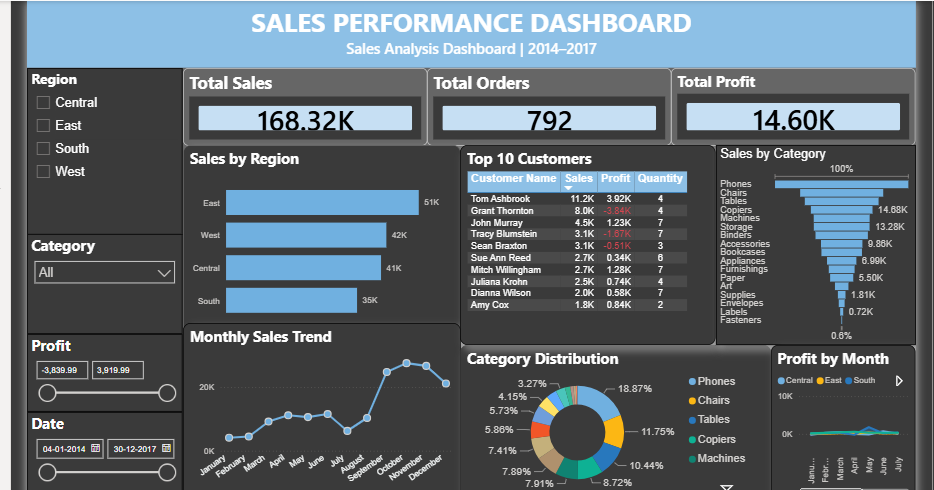

The dashboard page shown, as its layout file describes it:
{"tool":"powerbi","page":{"name":"Page 1","canvas":[1280,720],"ordinal":0},"visuals":[{"type":"cardVisual","title":"Total Sales","fields":{"Data":["Sum(cleaned data.Sales)"]},"box":[224,96,352,112],"z":0},{"type":"cardVisual","title":"Total Orders","fields":{"Data":["Count(cleaned data.Order ID)"]},"box":[576,96,352,112],"z":1000},{"type":"cardVisual","title":"Total Profit","fields":{"Data":["Sum(cleaned data.Profit)"]},"box":[928,96,352,112],"z":2000},{"type":"clusteredBarChart","title":" Sales by Region","fields":{"Category":["cleaned data.Region"],"Y":["Sum(cleaned data.Sales)"]},"box":[224,208,400,272],"z":3000},{"type":"lineChart","title":"Monthly Sales Trend","fields":{"Category":["cleaned data.Order Date.Variation.Date Hierarchy.Month"],"Y":["Sum(cleaned data.Sales)"]},"box":[224,464,400,256],"z":4000},{"type":"donutChart","title":"Category Distribution","fields":{"Category":["cleaned data.Category"],"Y":["Sum(cleaned data.Sales)"]},"box":[624,496,448,224],"z":5000},{"type":"tableEx","title":"Top 10 Customers","fields":{"Values":["cleaned data.Customer Name","Sum(cleaned data.Sales)","Sum(cleaned data.Profit)","Sum(cleaned data.Quantity)"]},"box":[624,208,368,288],"z":6000},{"type":"slicer","title":"Region","fields":{"Values":["cleaned data.Region"]},"box":[0,96,224,240],"z":7000},{"type":"slicer","title":"Category","fields":{"Values":["cleaned data.Category"]},"box":[0,336,224,144],"z":8000},{"type":"slicer","title":"Date","fields":{"Values":["cleaned data.Order Date"]},"box":[0,592,224,128],"z":9000},{"type":"slicer","title":"Profit","fields":{"Values":["cleaned data.Profit"]},"box":[0,480,224,112],"z":10000},{"type":"funnel","title":"Sales by Category","fields":{"Category":["cleaned data.Category"],"Y":["Sum(cleaned data.Sales)"]},"box":[992,208,288,288],"z":11000},{"type":"areaChart","title":"Profit by Month","fields":{"Category":["cleaned data.Order Date.Variation.Date Hierarchy.Month"],"Y":["Sum(cleaned data.Profit)"],"Series":["cleaned data.Region"]},"box":[1072,496,208,224],"z":12000},{"type":"textbox","box":[0,0,1280,96],"z":13000}]}

Visuals, with their boxes on the page's 1280x720 design canvas (x1, y1, x2, y2). These are canvas units, not pixel positions in the 934x490 screenshot, which may show the page scaled, cropped or inside an application window:
"Total Sales" cardVisual: {"left": 224, "top": 96, "right": 576, "bottom": 208}
"Total Orders" cardVisual: {"left": 576, "top": 96, "right": 928, "bottom": 208}
"Total Profit" cardVisual: {"left": 928, "top": 96, "right": 1280, "bottom": 208}
" Sales by Region" clusteredBarChart: {"left": 224, "top": 208, "right": 624, "bottom": 480}
"Monthly Sales Trend" lineChart: {"left": 224, "top": 464, "right": 624, "bottom": 720}
"Category Distribution" donutChart: {"left": 624, "top": 496, "right": 1072, "bottom": 720}
"Top 10 Customers" tableEx: {"left": 624, "top": 208, "right": 992, "bottom": 496}
"Region" slicer: {"left": 0, "top": 96, "right": 224, "bottom": 336}
"Category" slicer: {"left": 0, "top": 336, "right": 224, "bottom": 480}
"Date" slicer: {"left": 0, "top": 592, "right": 224, "bottom": 720}
"Profit" slicer: {"left": 0, "top": 480, "right": 224, "bottom": 592}
"Sales by Category" funnel: {"left": 992, "top": 208, "right": 1280, "bottom": 496}
"Profit by Month" areaChart: {"left": 1072, "top": 496, "right": 1280, "bottom": 720}
textbox: {"left": 0, "top": 0, "right": 1280, "bottom": 96}
